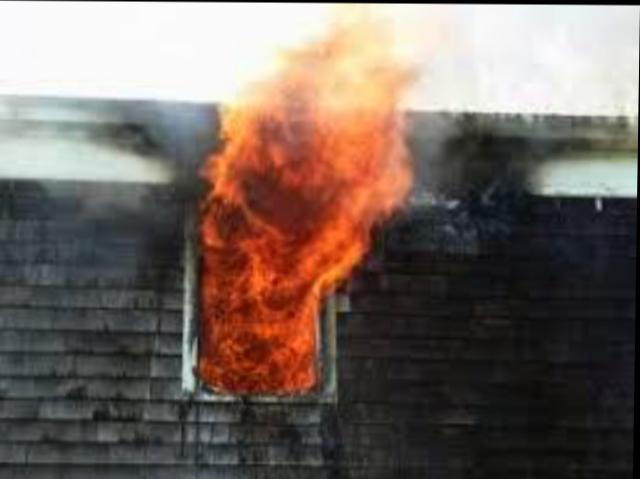fire: (180, 37, 427, 413)
